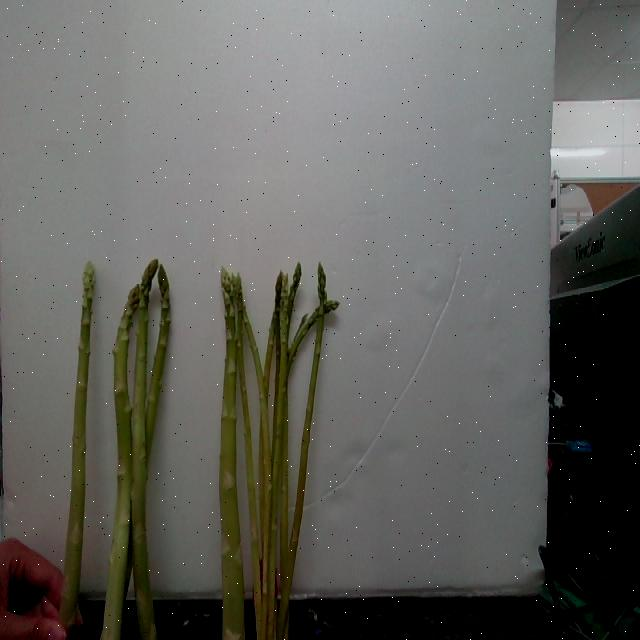aspargus: (103, 284, 139, 640), (63, 263, 96, 627)
